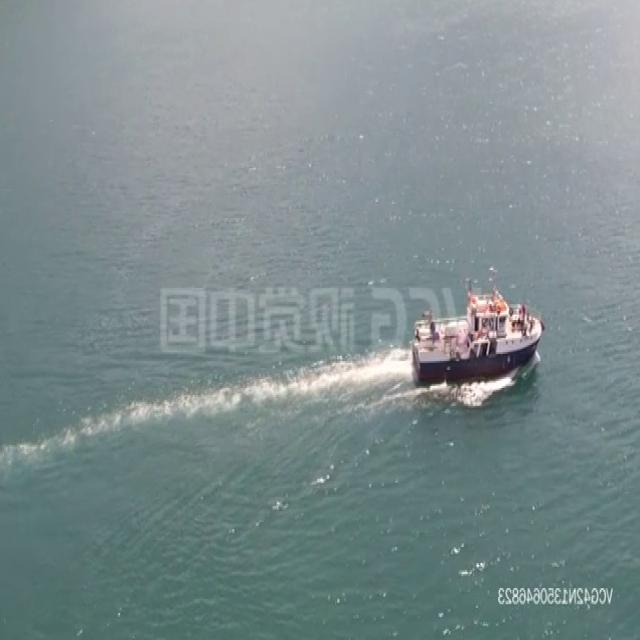houseboat: (406, 274, 545, 378)
